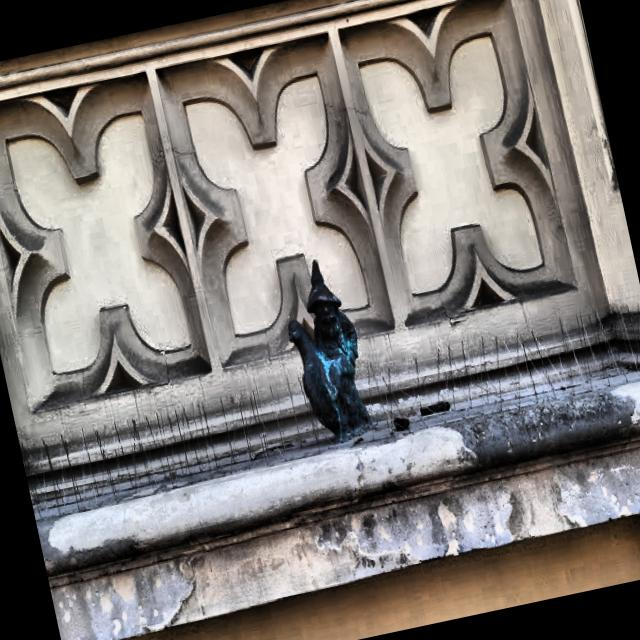Golebnik: (287, 259, 371, 445)
